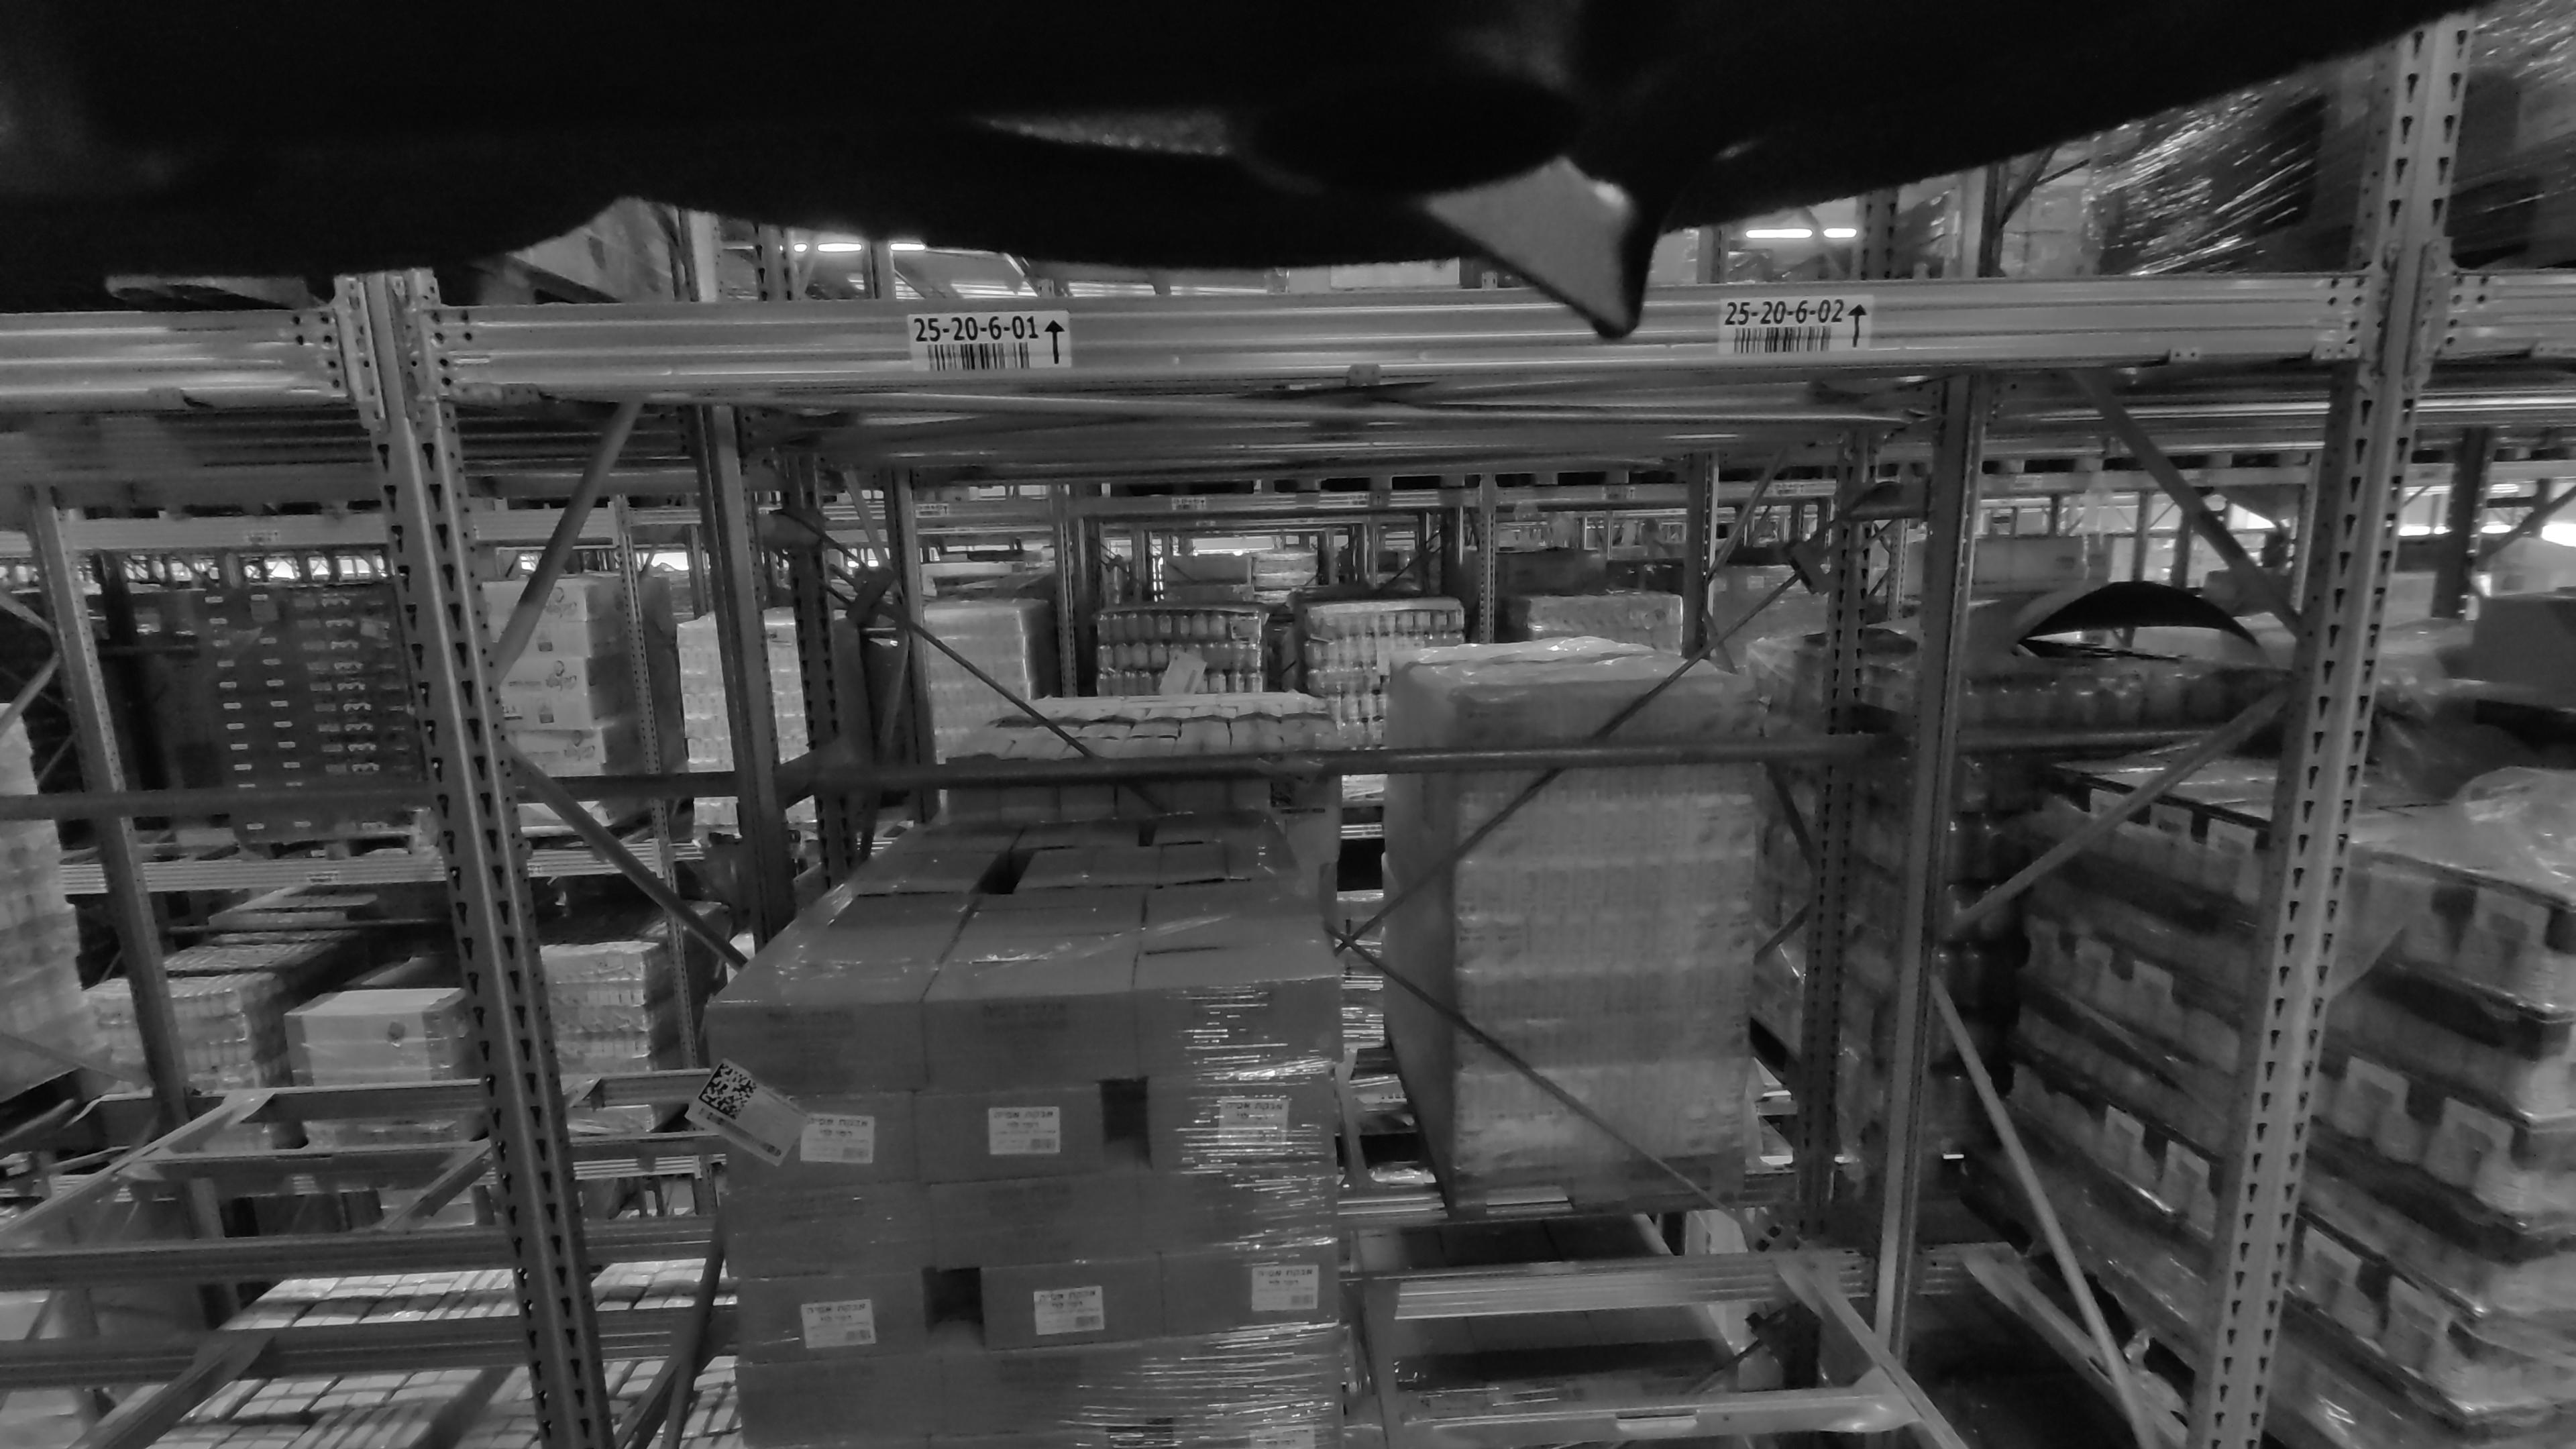empty-shelf: (1387, 379, 1960, 1449), (0, 426, 474, 1449), (28, 518, 393, 1221), (593, 418, 727, 1226)
